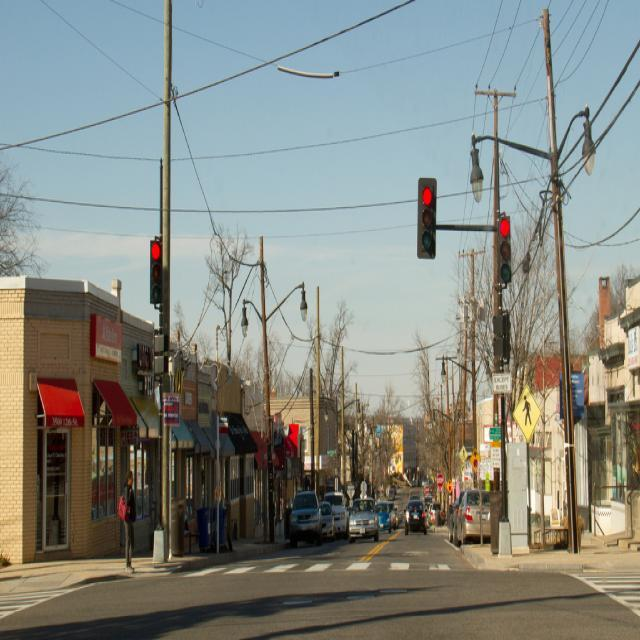traffic light: (420, 182, 435, 256), (499, 217, 512, 282), (151, 241, 164, 303)
